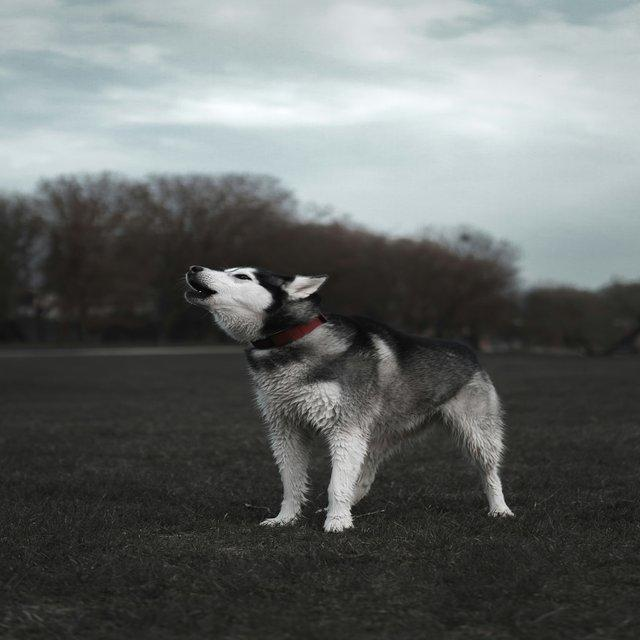husky: (182, 262, 516, 534)
